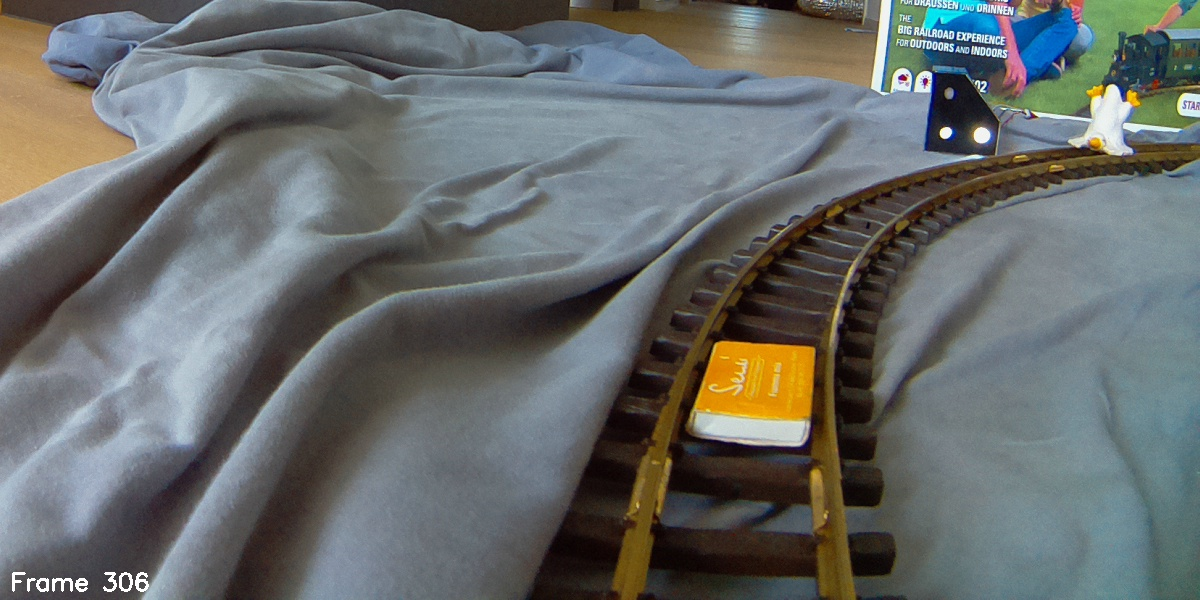Ente: (1069, 80, 1139, 163)
Halt: (922, 63, 1002, 162)
